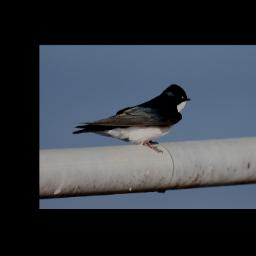Swallow: (72, 84, 191, 154)
